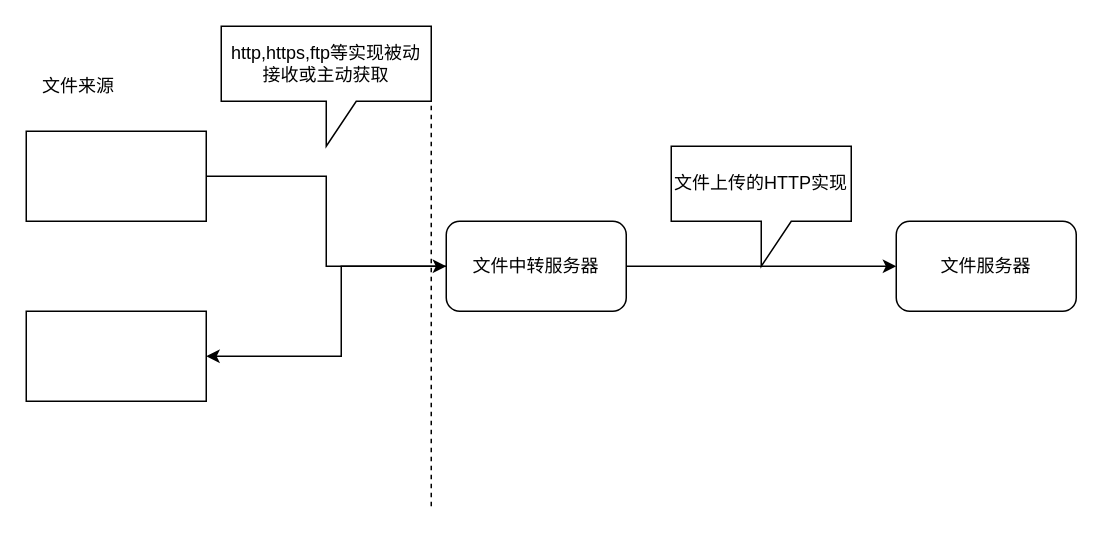
This 1103x534 diagram has some shape labels left out. The box of each missing label's shape, as (x1, y1, x2, y2) in pixels:
主动获取文件: (25, 310, 206, 401)
被动接收文件: (25, 130, 206, 221)
